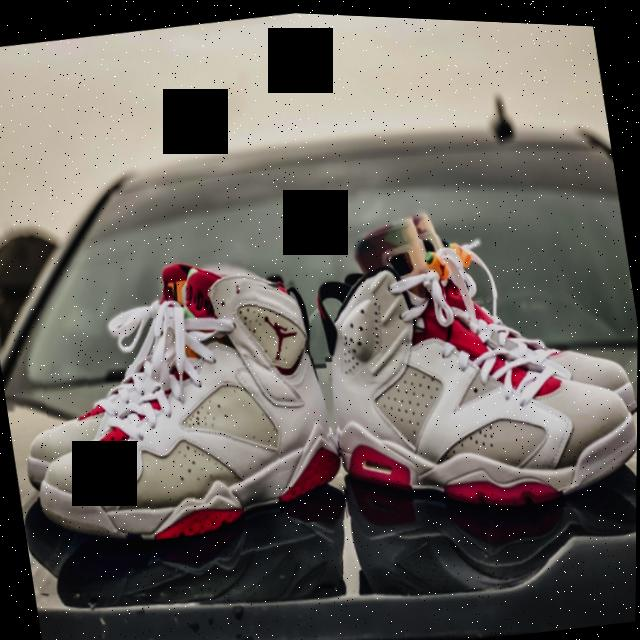shoe: (8, 260, 352, 563), (314, 239, 639, 528)
